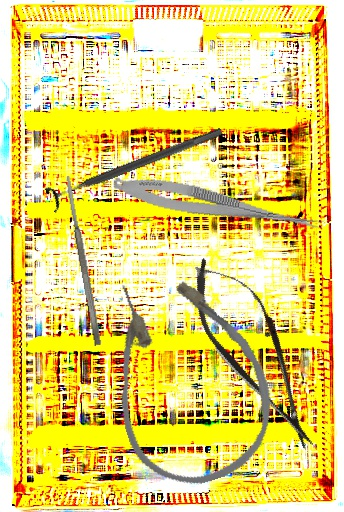Cannula: (85, 252, 290, 501)
Fixation Ring: (44, 117, 227, 215)
Micro Scissor: (173, 243, 338, 464), (110, 170, 328, 238)
Spatula Surgical: (63, 175, 103, 346)
